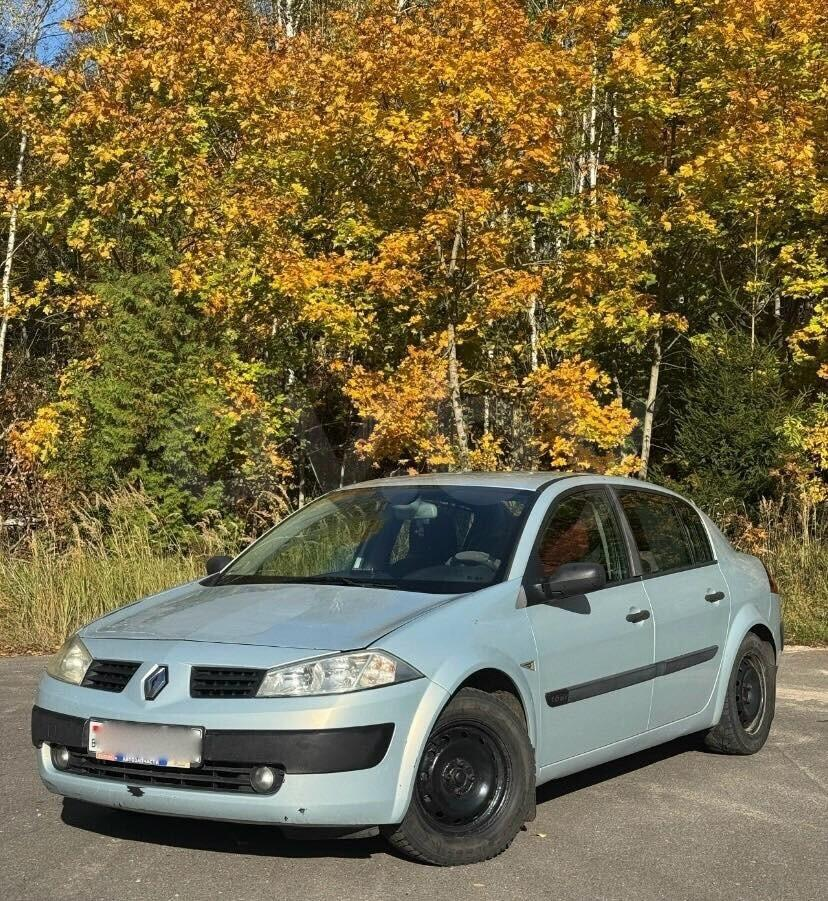Megane_2002-2006: (29, 470, 791, 865)
